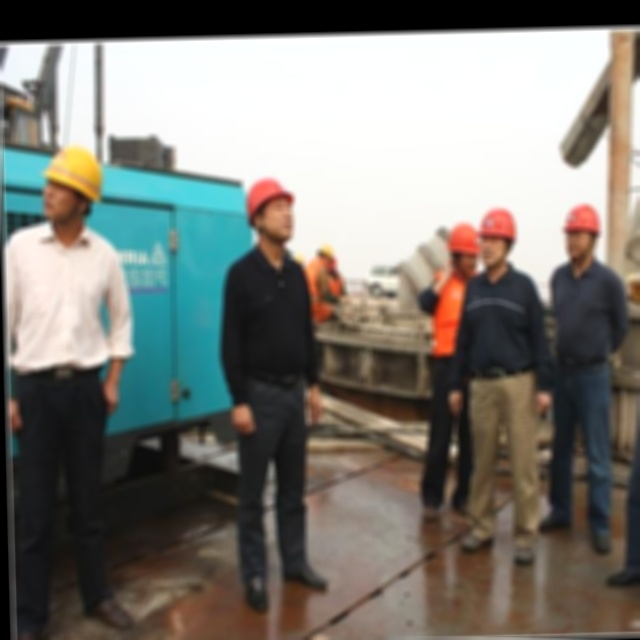Con_Casco: (39, 147, 103, 220), (244, 174, 298, 242)
Sin_Chaleco: (3, 222, 134, 374), (222, 244, 315, 395)
